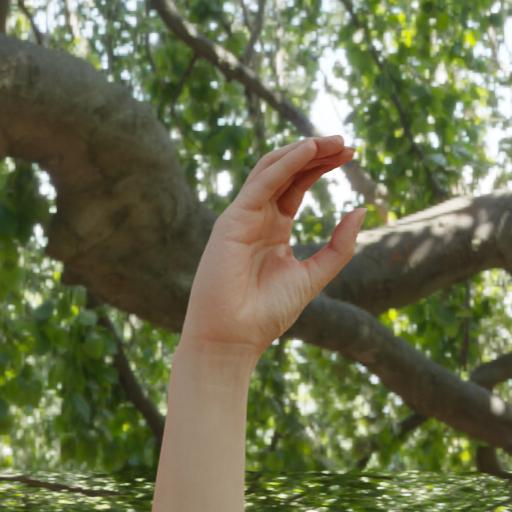C: (177, 120, 390, 376)
